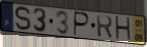3: (32, 8, 48, 34), (55, 10, 70, 36)
H: (114, 15, 132, 43)
P: (73, 10, 91, 38)
R: (96, 15, 114, 40)
S: (14, 5, 32, 32)
